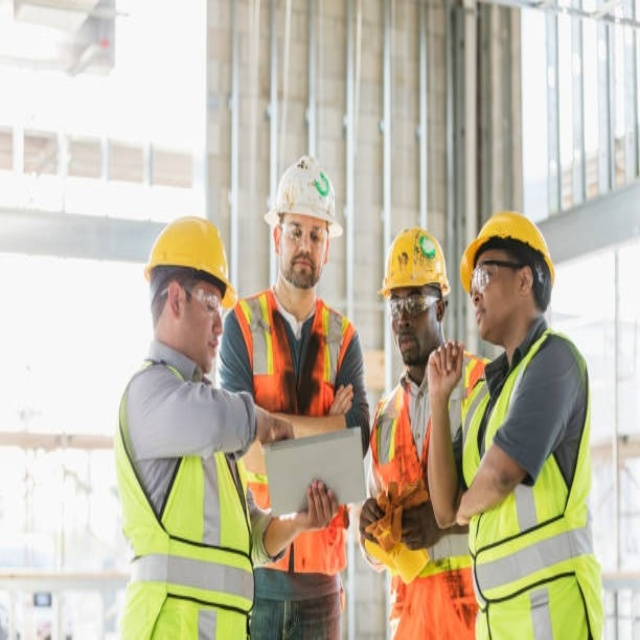Gafas: (466, 256, 521, 293), (168, 281, 226, 314), (387, 292, 440, 318), (277, 221, 332, 246)
Sin_guantes: (427, 337, 466, 394), (300, 478, 341, 531), (359, 497, 396, 546), (260, 409, 295, 446), (328, 380, 354, 416)
Sin_mascara: (288, 253, 314, 285), (198, 333, 220, 370), (475, 300, 495, 339), (394, 331, 419, 361)
